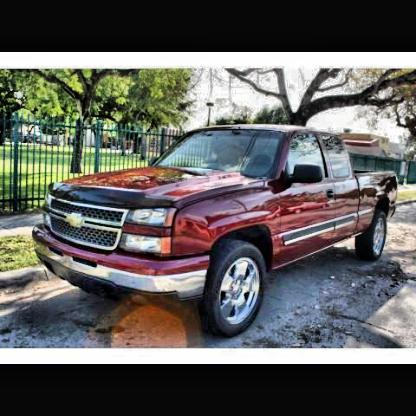Chevrolet Silverado 1500 Classic Extended Cab 2007: (34, 125, 400, 336)
